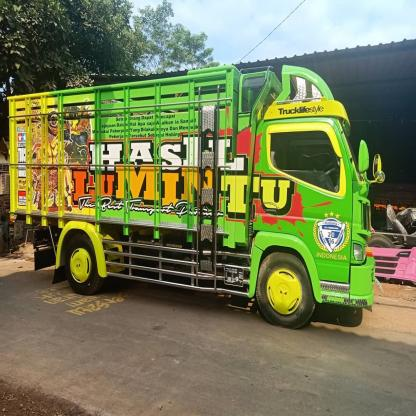truck: (10, 62, 388, 328)
